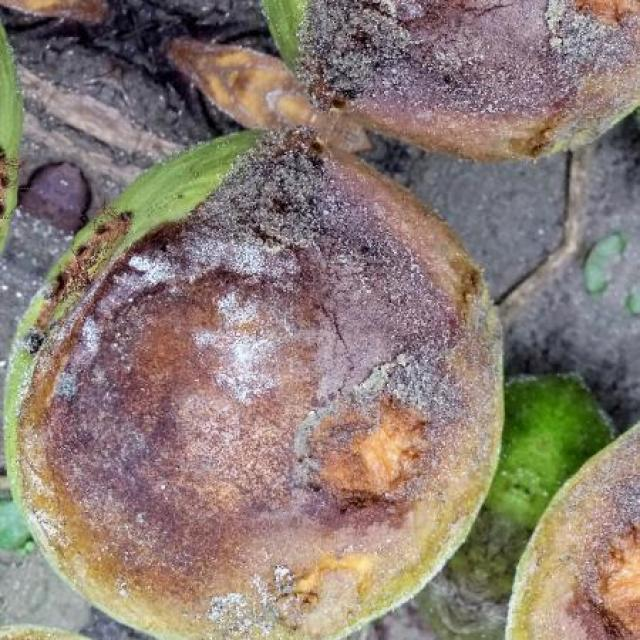Styler and Root: (8, 131, 502, 640), (299, 0, 640, 159), (506, 422, 640, 639)
